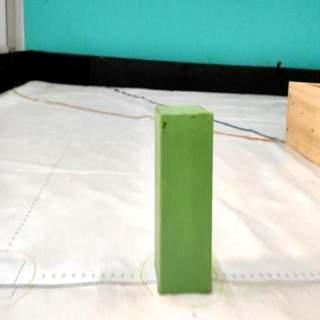greenbox: (154, 102, 214, 294)
